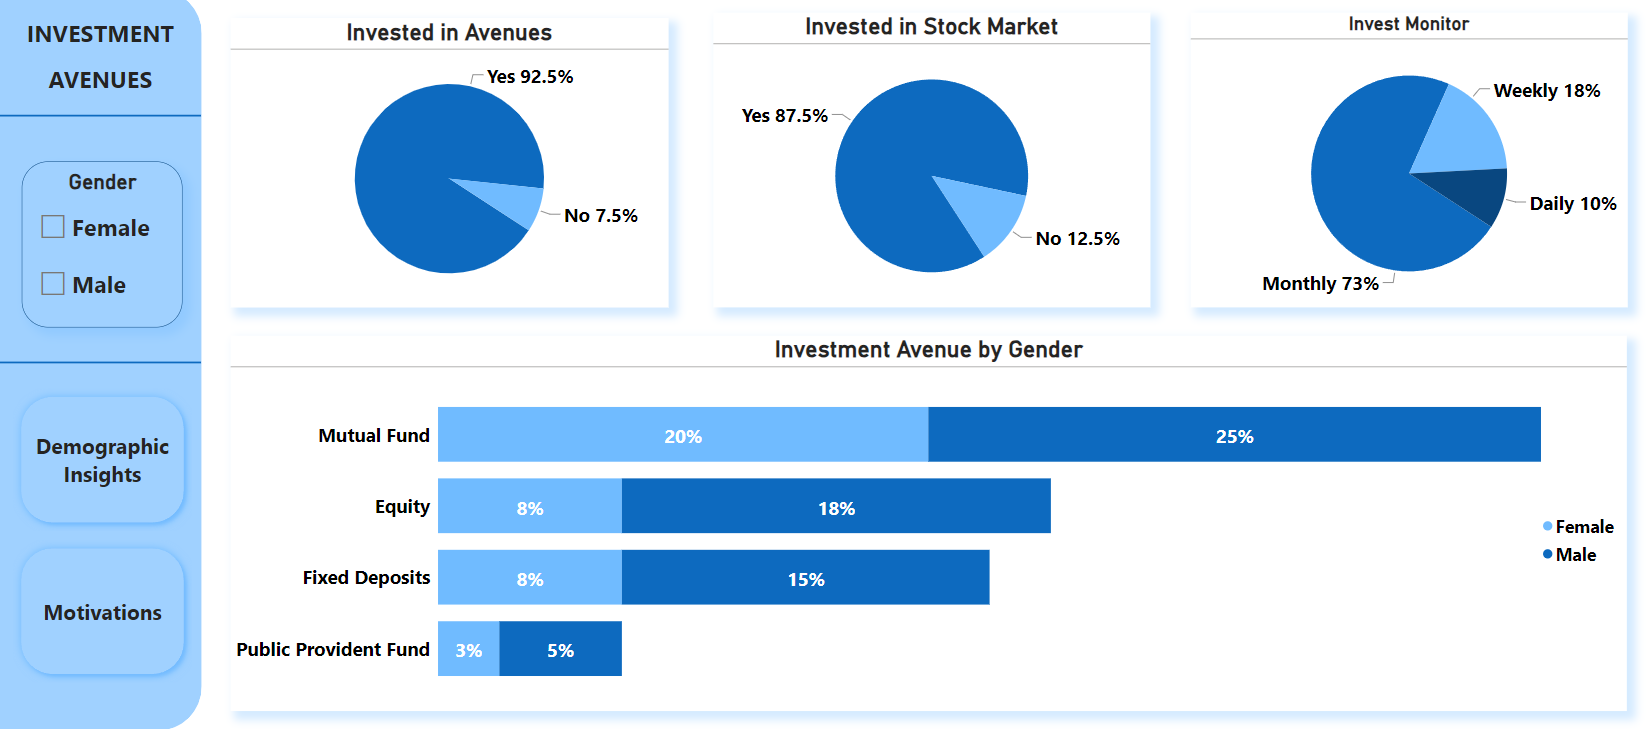

Layout of this report page (visuals, bound fields, positions):
{"tool":"powerbi","page":{"name":"Avenues","canvas":[1900,850],"ordinal":1},"visuals":[{"type":"group","id":"g1","title":"Group 4","box":[0,0,229.6,847.8],"z":0},{"type":"shape","box":[27,0,203.6,847.2],"z":0,"group":"g3"},{"type":"group","id":"g2","title":"Group 1","box":[0,0,229.6,847.8],"z":1000,"group":"g1"},{"type":"shape","box":[0,0,107.9,847.2],"z":1000,"group":"g3"},{"type":"barChart","title":"Investment Avenue by Gender","fields":{"Category":["Data_set 2 - Copy.Avenue"],"Y":["CountNonNull(Data_set 2 - Copy.age)"],"Series":["Data_set 2 - Copy.gender"]},"box":[263.2,394.8,1594.7,428.5],"z":1000},{"type":"group","id":"g3","title":"Group 2","box":[0,0,230.5,847.2],"z":1002,"group":"g2"},{"type":"pieChart","title":"Invested in Avenues","fields":{"Category":["Data_set 2 - Copy.Investment_Avenues"],"Y":["Divide(CountNonNull(Data_set 2 - Copy.age), ScopedEval(CountNonNull(Data_set 2 - Copy.age), []))"]},"box":[263.2,33.7,500,330.6],"z":2000},{"type":"pageNavigator","box":[15.3,456.1,205.1,336.7],"z":2000},{"type":"pieChart","title":"Invested in Stock Market","fields":{"Category":["Data_set 2 - Copy.Stock_Marktet"],"Y":["Divide(CountNonNull(Data_set 2 - Copy.age), ScopedEval(CountNonNull(Data_set 2 - Copy.age), []))"]},"box":[814.2,27.5,498.9,336.7],"z":3000},{"type":"shape","box":[0,113.3,229.6,61.2],"z":3000},{"type":"shape","box":[0,394.8,229.6,61.2],"z":3002},{"type":"pieChart","title":"Invest Monitor","fields":{"Category":["Data_set 2 - Copy.Invest_Monitor"],"Y":["Divide(CountNonNull(Data_set 2 - Copy.age), ScopedEval(CountNonNull(Data_set 2 - Copy.age), []))"]},"box":[1359,27.5,498.9,336.7],"z":3003},{"type":"slicer","title":"Gender","fields":{"Values":["Data_set 2 - Copy.gender"]},"box":[24.5,195.9,183.6,189.8],"z":3004},{"type":"textbox","box":[0,26.6,229.6,138.1],"z":5002,"group":"g1"}]}

Visuals, with their boxes in screenshot pixels (x1, y1, x2, y2), scaled from the page's 1900x850 canvas onto the 1646x729 screenshot:
"Group 4" group: detection(0, 0, 199, 727)
shape: detection(23, 0, 200, 727)
"Group 1" group: detection(0, 0, 199, 727)
shape: detection(0, 0, 93, 727)
"Investment Avenue by Gender" barChart: detection(228, 339, 1610, 706)
"Group 2" group: detection(0, 0, 200, 727)
"Invested in Avenues" pieChart: detection(228, 29, 661, 312)
pageNavigator: detection(13, 391, 191, 680)
"Invested in Stock Market" pieChart: detection(705, 24, 1138, 312)
shape: detection(0, 97, 199, 150)
shape: detection(0, 339, 199, 391)
"Invest Monitor" pieChart: detection(1177, 24, 1610, 312)
"Gender" slicer: detection(21, 168, 180, 331)
textbox: detection(0, 23, 199, 141)
